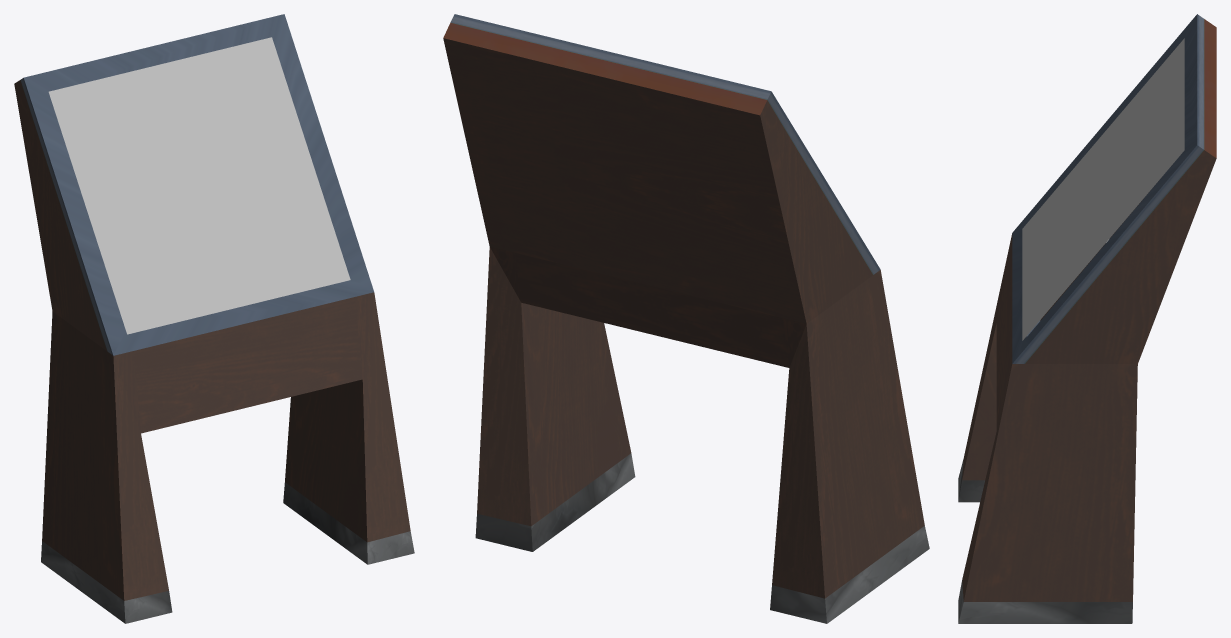
Rendered from EntranceBoard.glb.
3 renders of one model, left to right at view 1: azimuth 30°, elevation 25°; view 2: azimuth 150°, elevation 25°; view 3: azimuth 270°, elevation 25°, orthographic. The views are drawn at different scales.
Visible parts, largest first — view 1: EntranceBoard; view 2: EntranceBoard; view 3: EntranceBoard.
Part boxes in pixels (x1,y1,x2,y2): EntranceBoard: (14,14,414,623); EntranceBoard: (443,14,929,623); EntranceBoard: (958,14,1216,623).
Size of what is drawn, in the model's own units: 1.19 by 1.8 by 0.8937.
6 materials, 5 textured.
